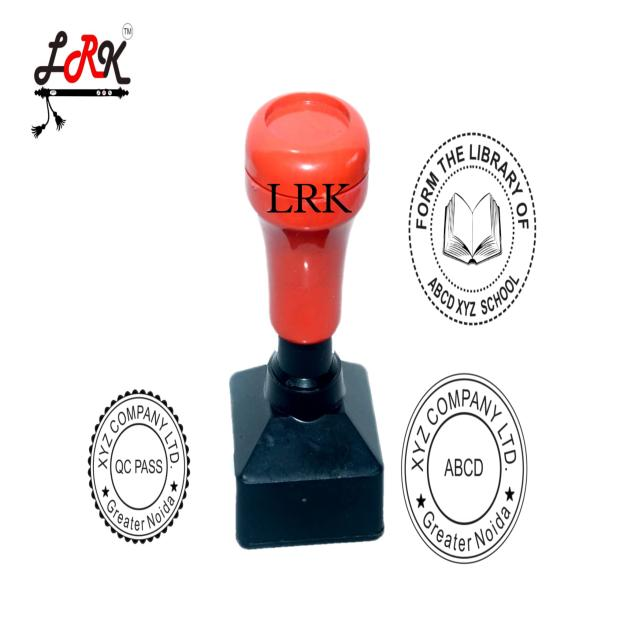Ink-stamps: (394, 363, 537, 575), (403, 121, 541, 333), (91, 396, 189, 546)
